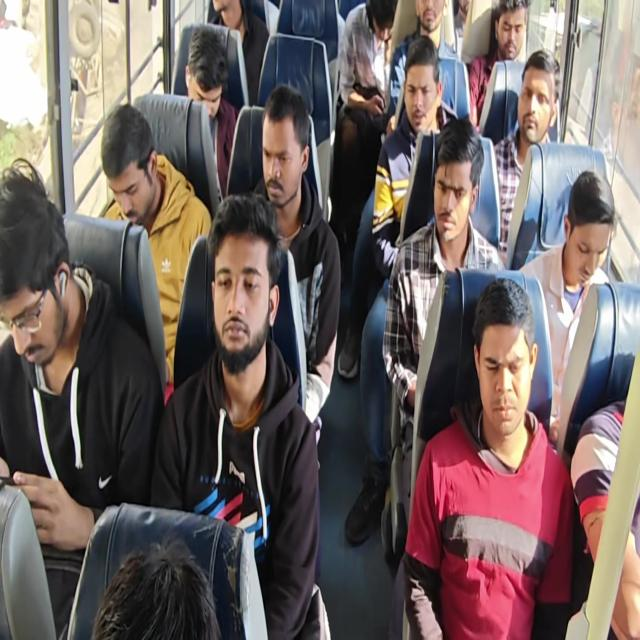person: (1, 1, 638, 638), (150, 191, 330, 638), (1, 157, 164, 638), (402, 276, 575, 638), (381, 116, 507, 544), (338, 35, 450, 378), (100, 102, 212, 400), (252, 83, 342, 447), (518, 168, 615, 448), (569, 341, 640, 638), (371, 35, 452, 278), (329, 0, 397, 247), (492, 48, 562, 255), (91, 535, 221, 639), (184, 23, 239, 200), (385, 0, 455, 134), (468, 0, 530, 128), (210, 0, 269, 106)
